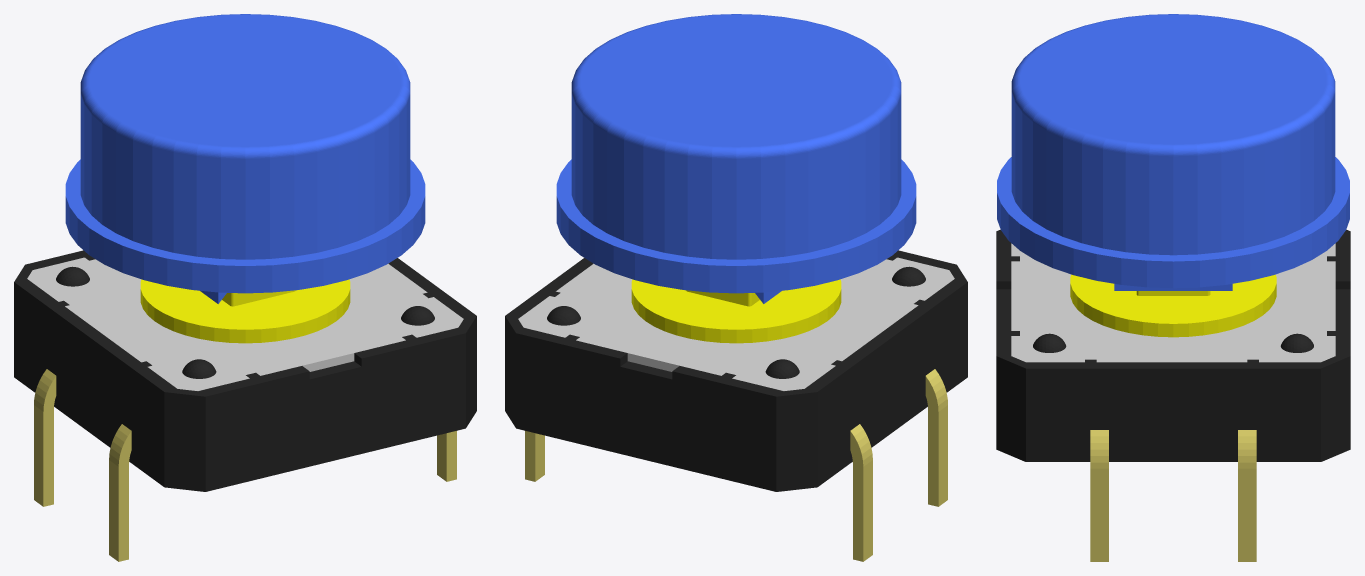
Rendered from push_button.glb.
3 views of the same model, side by side, from view 1: azimuth 30°, elevation 25°; view 2: azimuth 150°, elevation 25°; view 3: azimuth 270°, elevation 25° (orthographic).
Visible parts, largest first — view 1: Tapon, Fusion004_1, ChapaMetalica, Fillet, Fusion004; view 2: Tapon, Fusion004_1, ChapaMetalica, Fillet, Fusion004; view 3: Tapon, Fusion004_1, ChapaMetalica, Fillet, Fusion004.
Boxes of the visible parts, x1,y1,x2,y2 form: Tapon: (65, 14, 425, 303); Fusion004_1: (14, 250, 476, 491); ChapaMetalica: (27, 257, 463, 390); Fillet: (140, 279, 350, 343); Fusion004: (34, 369, 456, 561); Tapon: (556, 14, 916, 303); Fusion004_1: (505, 250, 967, 491); ChapaMetalica: (518, 257, 954, 390); Fillet: (631, 279, 841, 343); Fusion004: (525, 369, 947, 561); Tapon: (997, 14, 1349, 290); Fusion004_1: (996, 229, 1350, 461); ChapaMetalica: (1011, 243, 1335, 362); Fillet: (1070, 274, 1276, 337); Fusion004: (1090, 430, 1256, 561).
Size of the model in its own units: 0.013 by 0.015 by 0.012.
